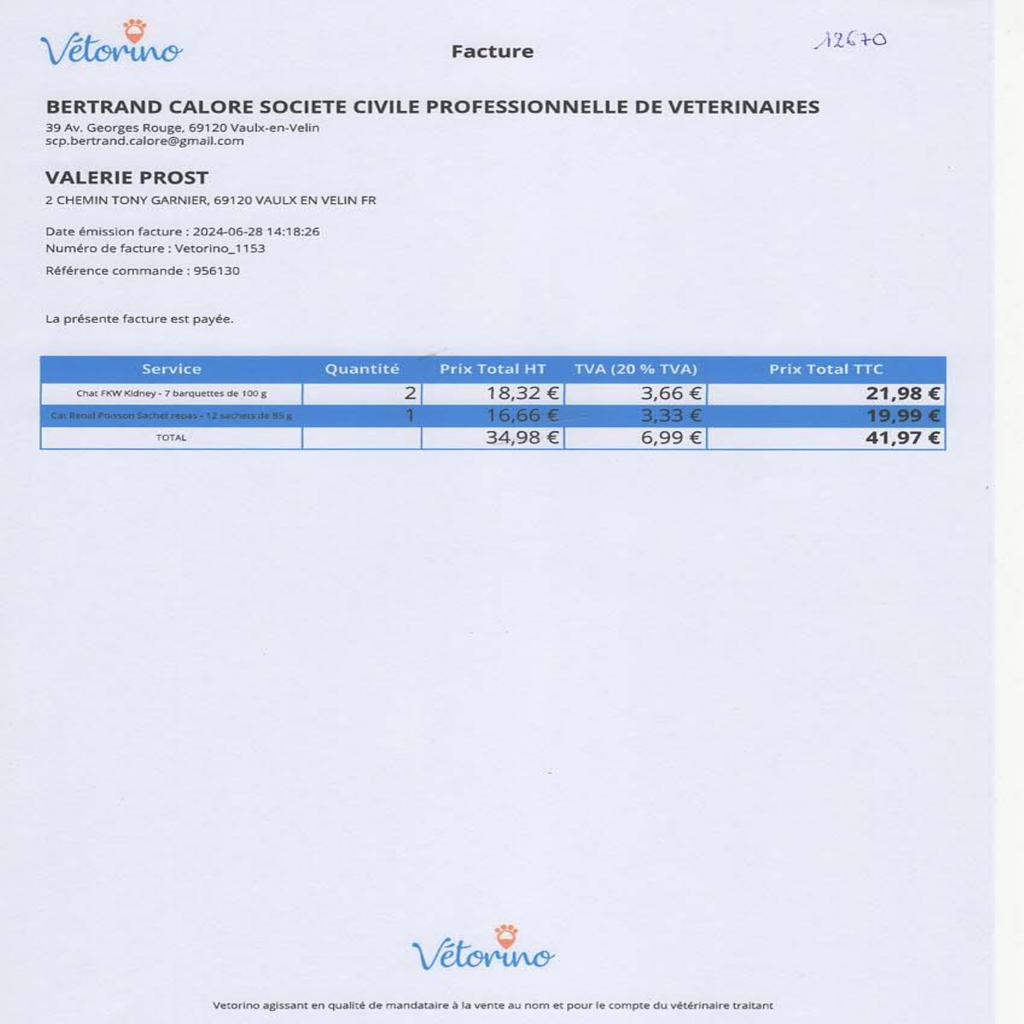recipt: (6, 2, 1014, 1020)
